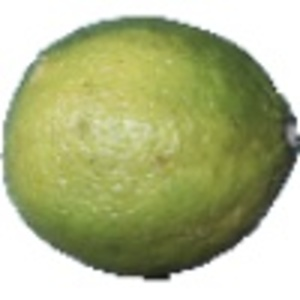limão: (1, 14, 300, 280)
